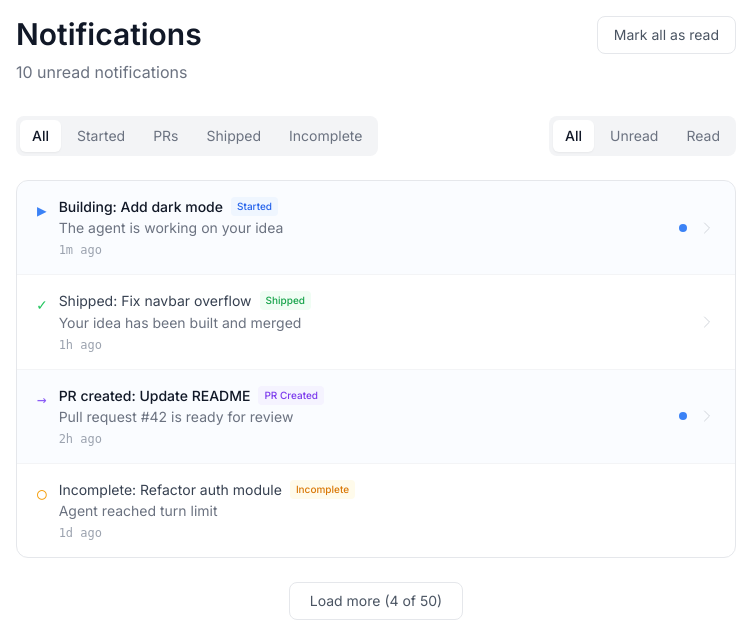
Test case: NotificationsPage › Load more pagination › hides load more when type filter is not "all"
The width and height of the screenshot is (753, 637).
Expected: the button "Load more (4 of 50)" is shown, [289,582,463,620]
Step 1. Click the button "PRs" → [166, 136], box [141,120,190,152]
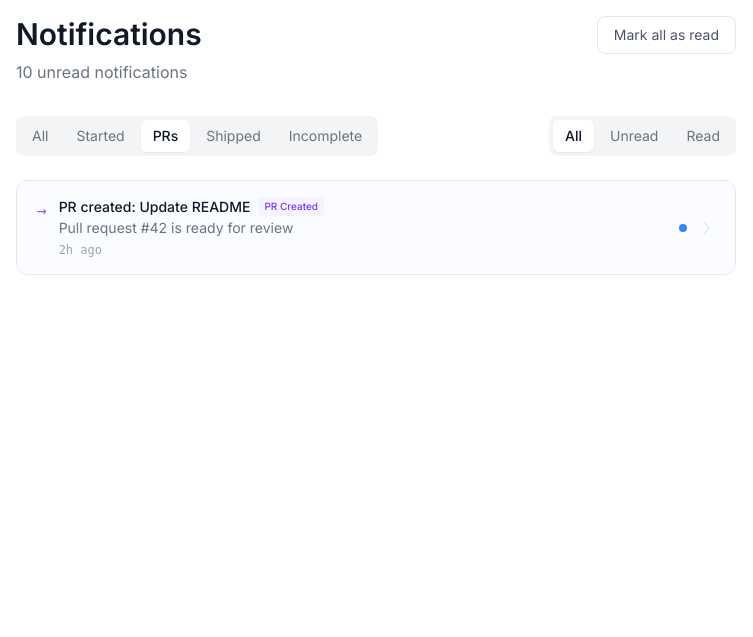
Result: the button "Load more" is gone
